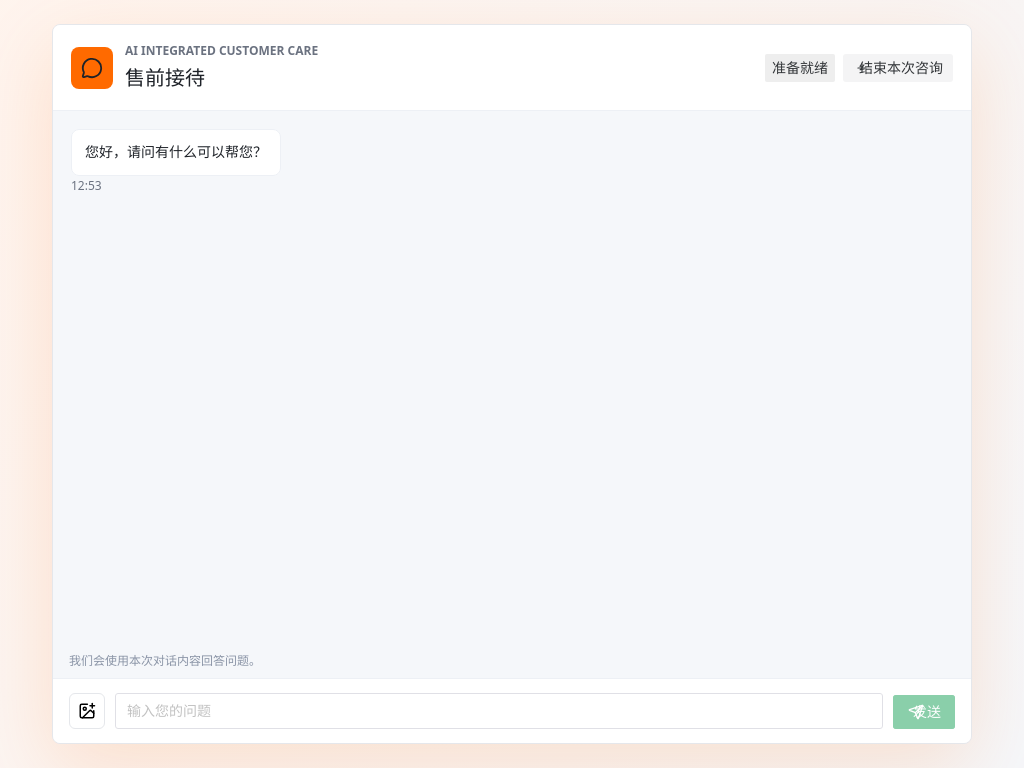
Test: PublicAICCChatPage › creates the public session lazily when the first message is submitted
In the text box with placeholder "输入您的问题": (499, 711) [127,693,871,729], type "报价多少"
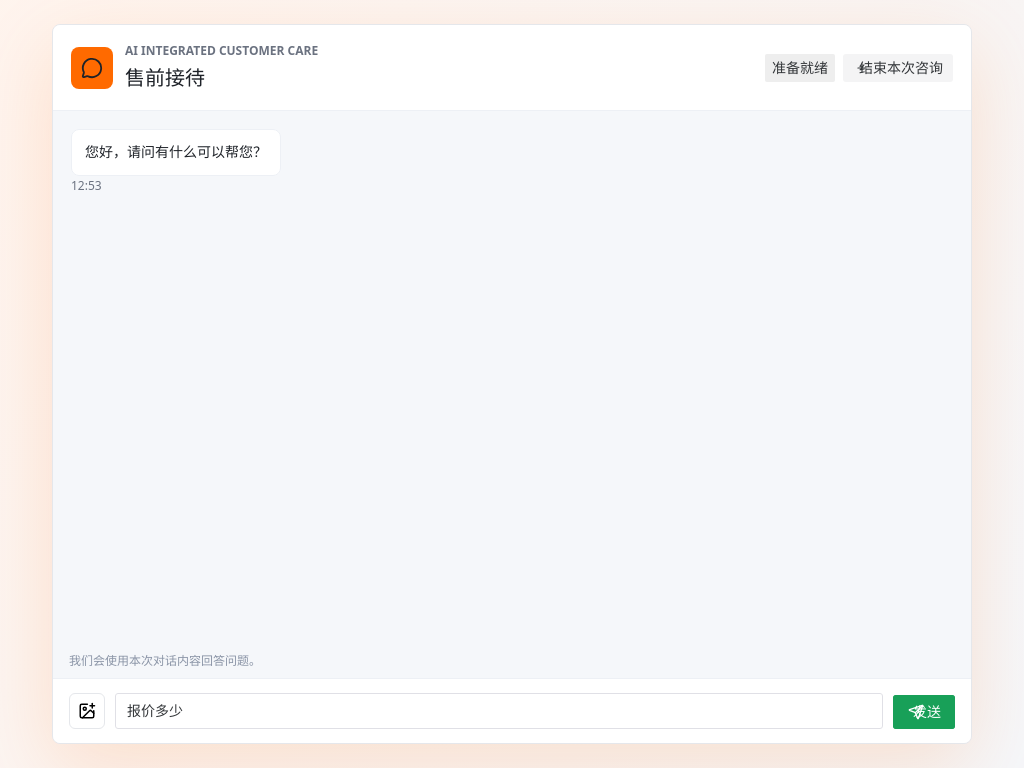
Submit the form with class "composer", box [53,678,971,743]
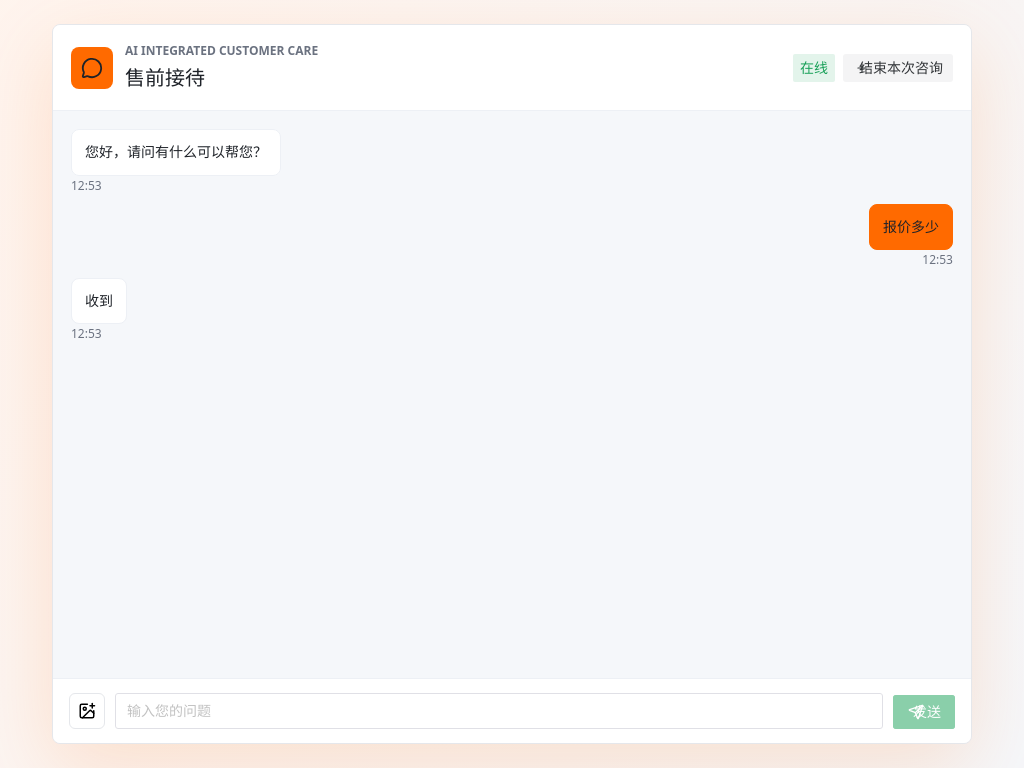
Now the text "收到" is shown, box [85,290,113,312]
